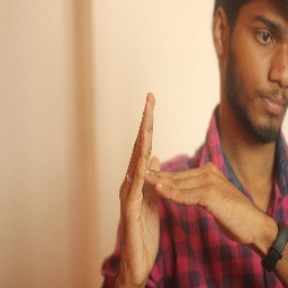Z: (106, 86, 251, 275)
